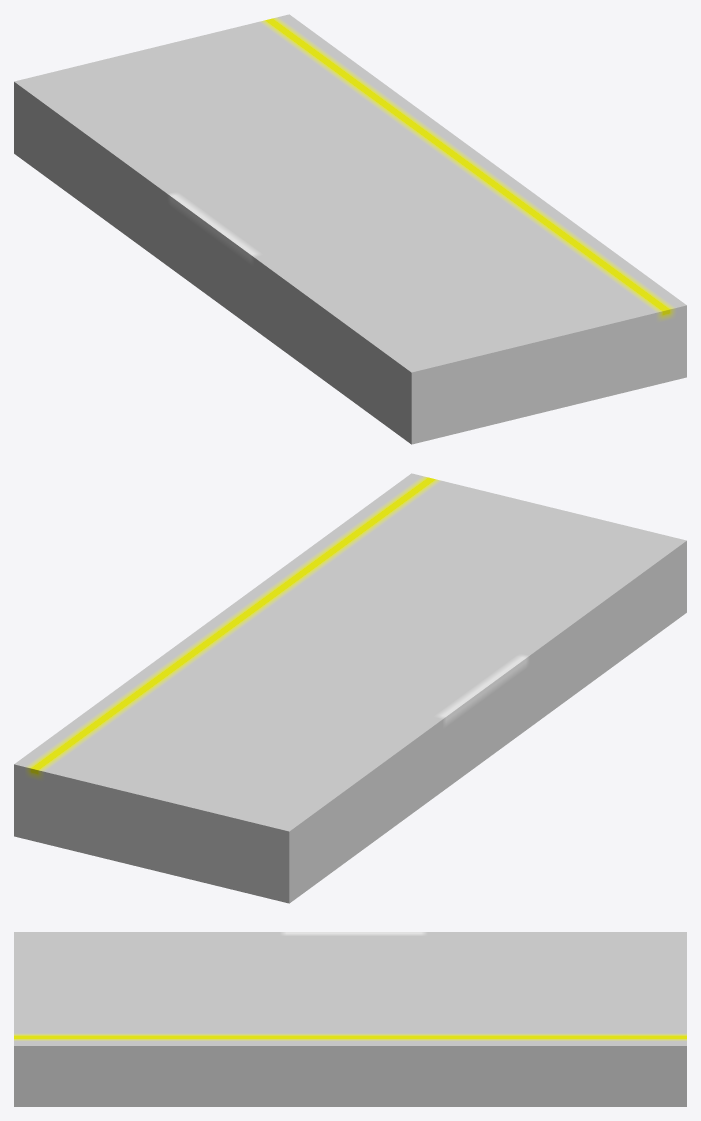
The model's file is LastRight.fbx.
3 renders of one model, top to bottom at view 1: azimuth 30°, elevation 25°; view 2: azimuth 150°, elevation 25°; view 3: azimuth 270°, elevation 25°, orthographic. The views are drawn at different scales.
Parts seen in each view (by area): view 1: LastRight; view 2: LastRight; view 3: LastRight.
Part boxes in pixels (<box>): LastRight: <box>14,14,686,444</box>; LastRight: <box>14,473,686,903</box>; LastRight: <box>14,932,686,1106</box>.
Size of the model in its own units: 40 by 10 by 100.
